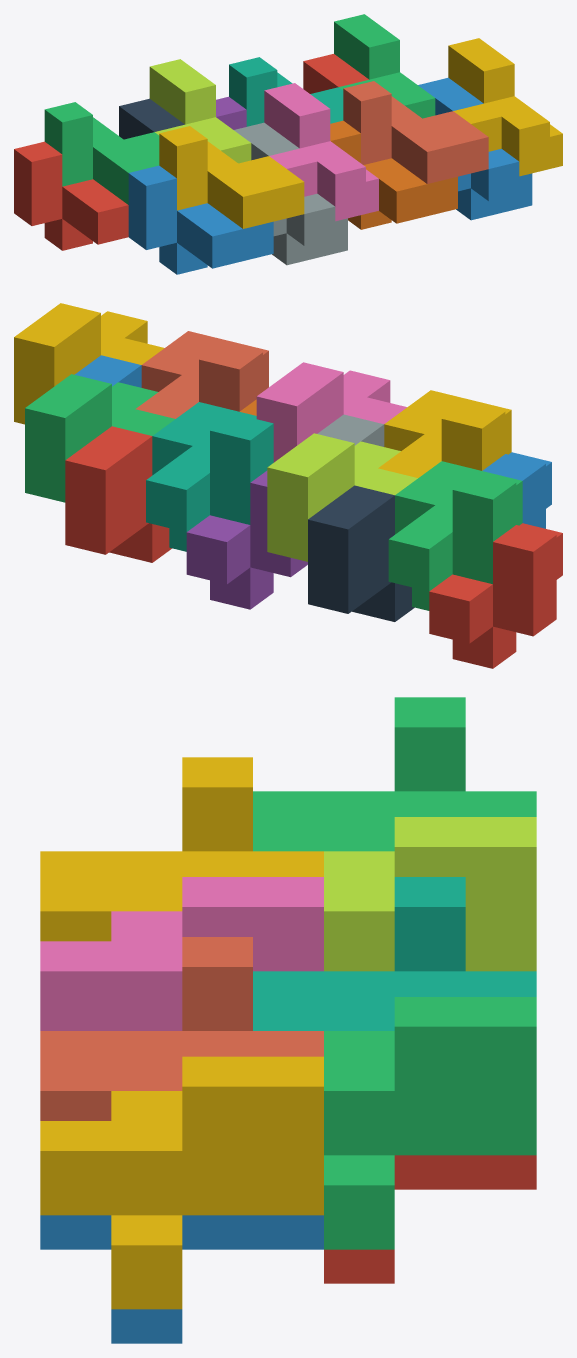
File: tiling.obj
3 views of the same model, one above another, from view 1: azimuth 30°, elevation 25°; view 2: azimuth 150°, elevation 25°; view 3: azimuth 270°, elevation 25° (orthographic). The views are drawn at different scales.
Parts seen in each view (by area): view 1: copy_1_domain_2, copy_1_domain_8, copy_1_domain_4, copy_2_domain_4, copy_2_domain_8, copy_1_domain_1, copy_1_domain_3, copy_1_domain_6, copy_2_domain_2, copy_2_domain_6, copy_2_domain_3, copy_2_domain_7 (+4 smaller); view 2: copy_1_domain_3, copy_1_domain_7, copy_1_domain_1, copy_2_domain_5, copy_2_domain_1, copy_2_domain_3, copy_2_domain_7, copy_2_domain_8, copy_1_domain_4, copy_1_domain_8, copy_1_domain_5, copy_2_domain_4 (+3 smaller); view 3: copy_2_domain_8, copy_2_domain_7, copy_2_domain_4, copy_2_domain_3, copy_1_domain_4, copy_1_domain_8, copy_1_domain_3, copy_1_domain_7, copy_2_domain_6, copy_2_domain_5.
Boxes of the visible parts, x1,y1,x2,y2 form: copy_1_domain_2: [128, 165, 273, 274]; copy_1_domain_8: [343, 81, 488, 183]; copy_1_domain_4: [159, 126, 304, 228]; copy_2_domain_4: [264, 83, 378, 221]; copy_2_domain_8: [448, 38, 562, 176]; copy_1_domain_1: [14, 141, 128, 250]; copy_1_domain_3: [44, 102, 159, 204]; copy_1_domain_6: [330, 120, 457, 229]; copy_2_domain_2: [234, 122, 347, 265]; copy_2_domain_6: [418, 77, 532, 220]; copy_2_domain_3: [149, 59, 251, 163]; copy_2_domain_7: [334, 14, 435, 118]; copy_1_domain_3: [388, 461, 522, 610]; copy_1_domain_7: [146, 402, 273, 551]; copy_1_domain_1: [429, 523, 562, 668]; copy_2_domain_5: [65, 426, 171, 562]; copy_2_domain_1: [308, 485, 414, 621]; copy_2_domain_3: [267, 433, 417, 561]; copy_2_domain_7: [25, 374, 175, 502]; copy_2_domain_8: [14, 303, 164, 424]; copy_1_domain_4: [378, 390, 511, 477]; copy_1_domain_8: [135, 331, 268, 418]; copy_1_domain_5: [186, 470, 307, 609]; copy_2_domain_4: [256, 362, 406, 462]; copy_2_domain_8: [40, 1056, 323, 1309]; copy_2_domain_7: [324, 997, 536, 1249]; copy_2_domain_4: [40, 877, 323, 1030]; copy_2_domain_3: [324, 817, 536, 971]; copy_1_domain_4: [40, 757, 323, 941]; copy_1_domain_8: [40, 937, 323, 1120]; copy_1_domain_3: [253, 697, 536, 851]; copy_1_domain_7: [253, 877, 536, 1030]; copy_2_domain_6: [40, 1215, 323, 1343]; copy_2_domain_5: [324, 1155, 536, 1283].
Bounding box in the file's own units: 15 × 4 × 7.
